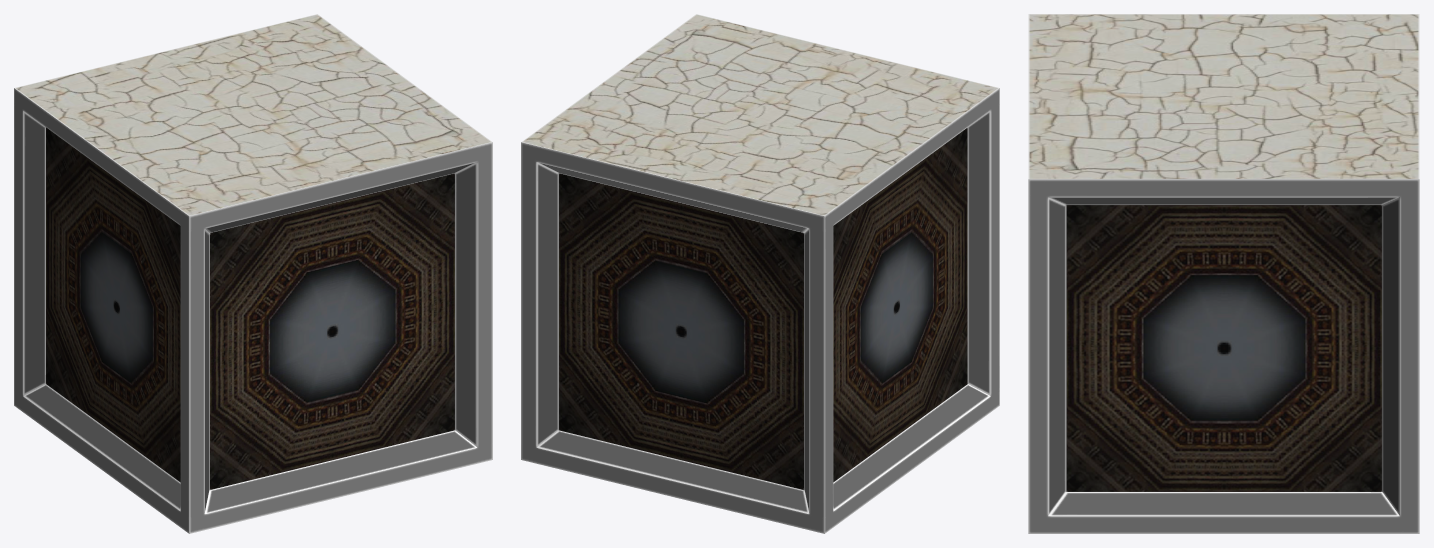
Rendered from CubeGrey.fbx.
3 views of the same model, side by side, from view 1: azimuth 30°, elevation 25°; view 2: azimuth 150°, elevation 25°; view 3: azimuth 270°, elevation 25° (orthographic). The views are drawn at different scales.
Parts seen in each view (by area): view 1: Cube; view 2: Cube; view 3: Cube.
Boxes of the visible parts, x1,y1,x2,y2 form: Cube: [14, 14, 492, 533]; Cube: [521, 14, 999, 533]; Cube: [1028, 14, 1419, 533].
Bounding box in the file's own units: 200 × 200 × 200.
